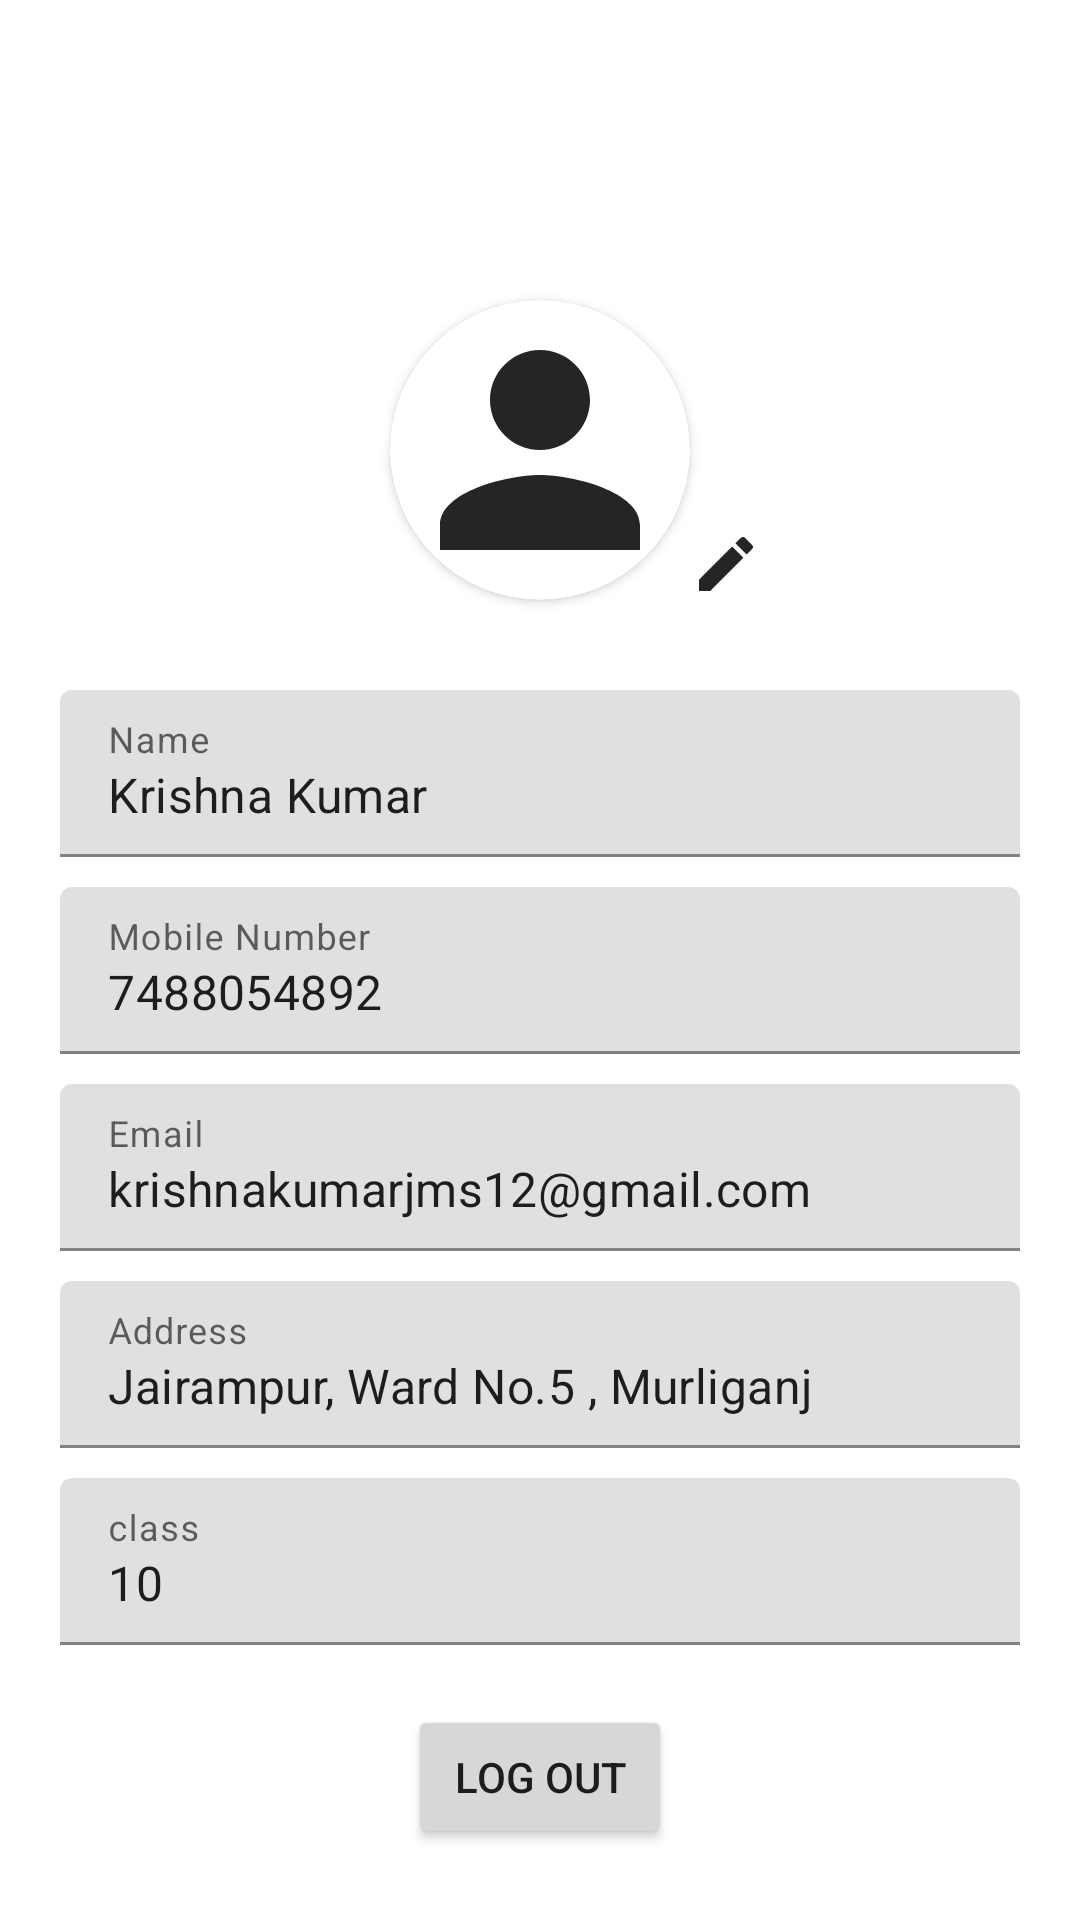

Locate icon controls on the screen. Image size 1080 x 1920, boxes as box(x1, y1, x2, y2).
edit: box(699, 537, 753, 591)
profile: box(395, 350, 685, 600)
